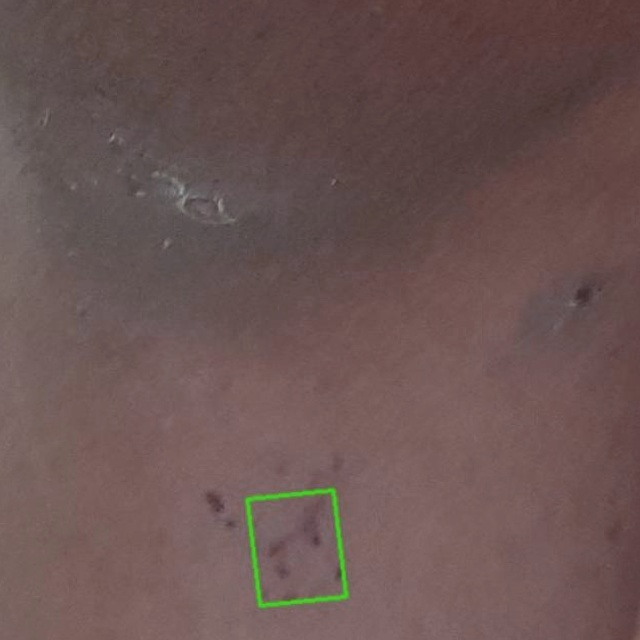Eczema: (248, 490, 346, 606)
